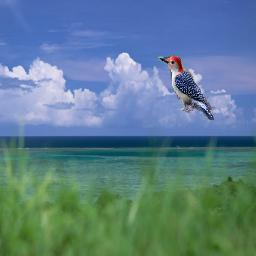Woodpecker: (158, 56, 214, 121)
